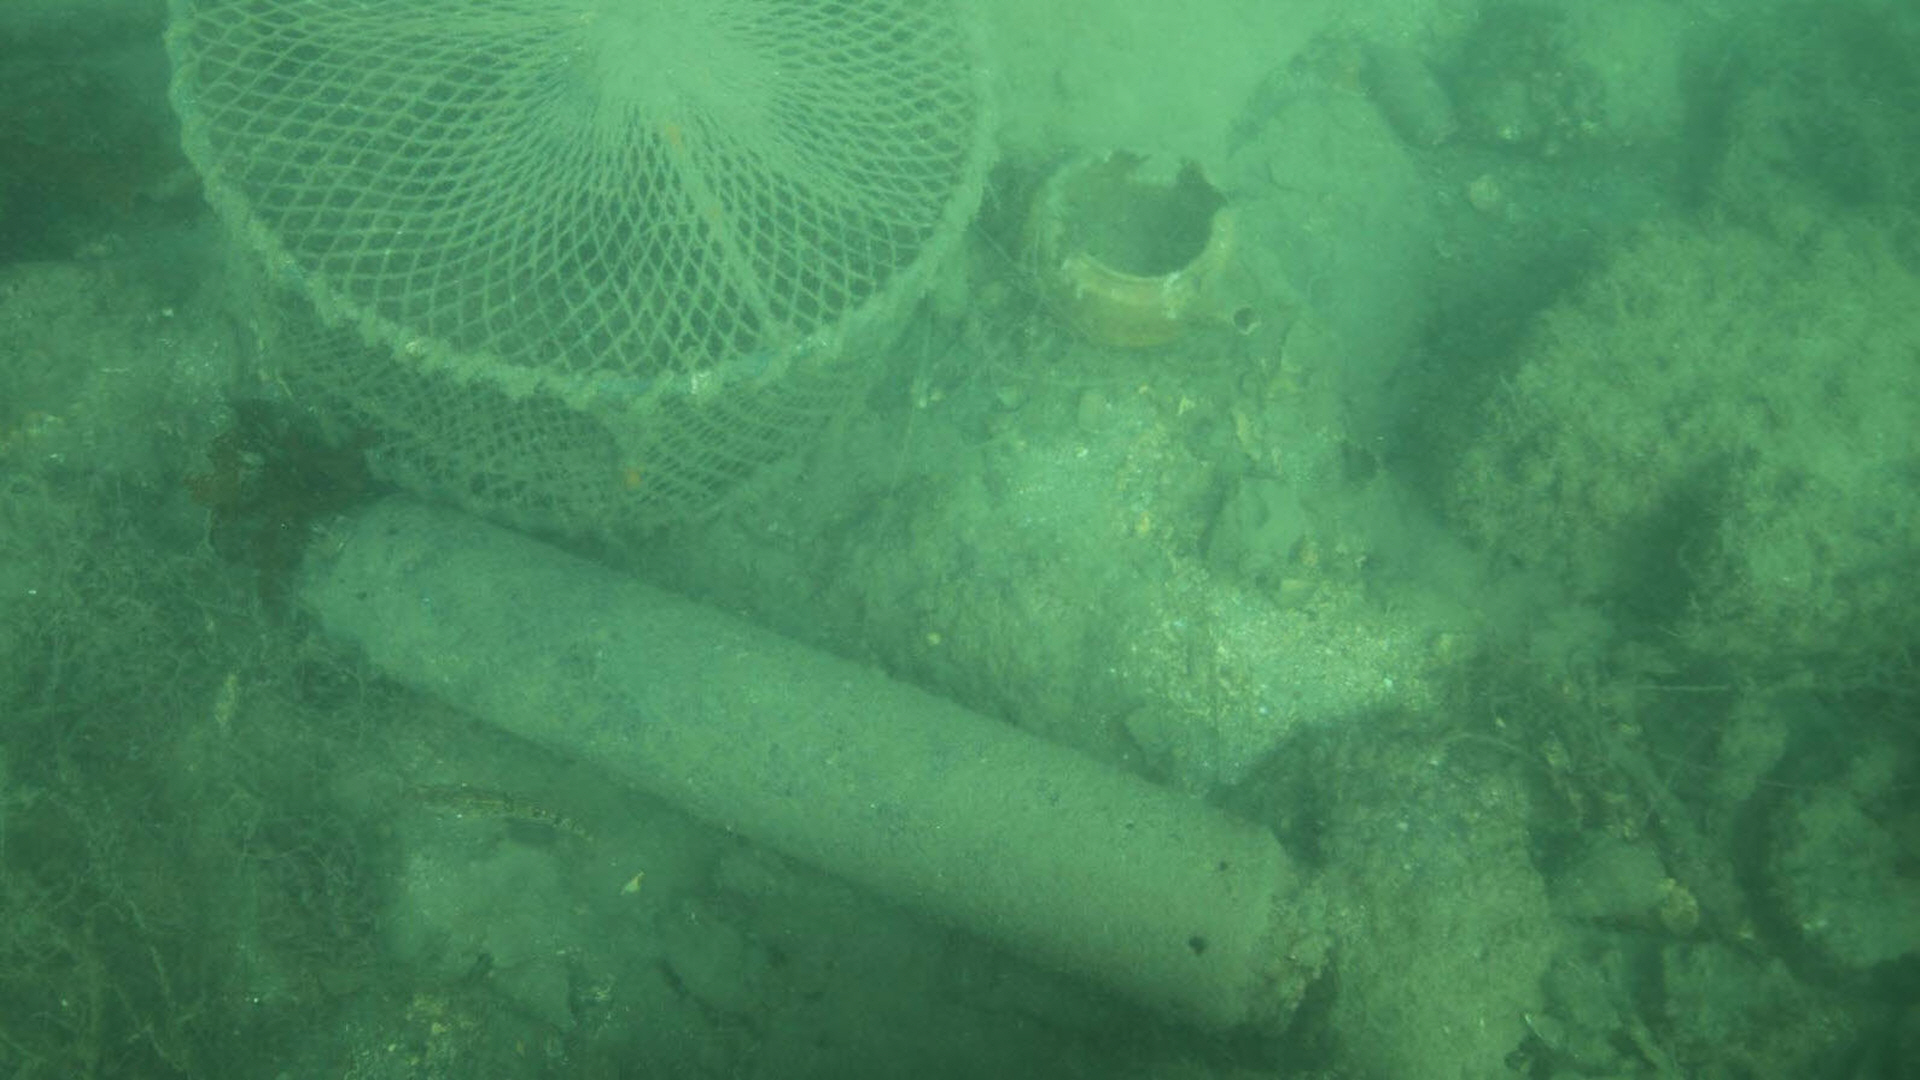circular fish trap: (162, 1, 998, 526)
eel fish trap: (306, 495, 1342, 1038)
